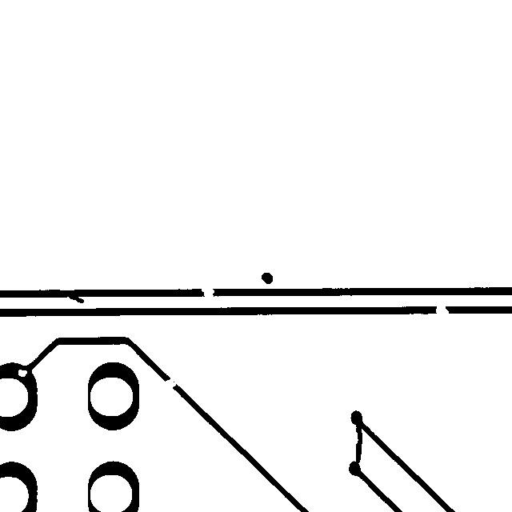copper: (254, 265, 280, 291)
open: (428, 296, 456, 325), (194, 278, 222, 306), (156, 370, 183, 395)
pin-hole: (10, 362, 34, 384)
short: (346, 410, 370, 474)
spur: (58, 285, 91, 310)
